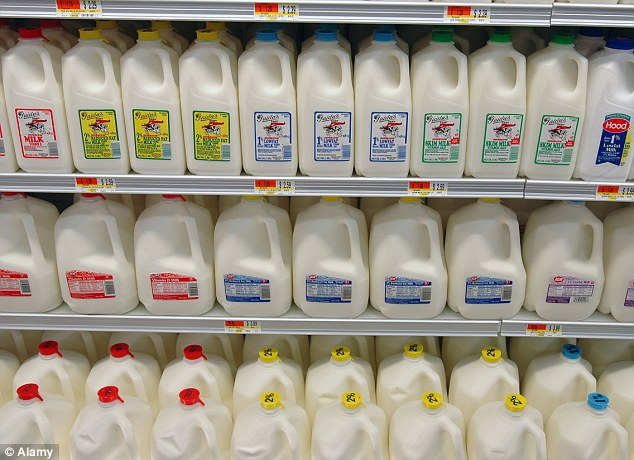milk: (290, 195, 372, 325), (131, 198, 219, 317), (452, 198, 530, 329), (296, 29, 357, 183), (533, 201, 608, 326), (6, 31, 66, 186), (57, 195, 137, 310), (238, 32, 300, 180), (216, 197, 291, 317), (352, 35, 413, 181), (376, 198, 447, 320), (131, 23, 186, 180), (184, 30, 241, 179), (472, 34, 526, 183), (72, 28, 127, 174), (416, 36, 469, 177), (534, 36, 583, 185), (1, 195, 58, 315), (589, 36, 634, 183), (314, 393, 391, 460), (72, 395, 149, 460), (155, 394, 229, 460), (551, 401, 634, 458), (237, 399, 312, 459), (473, 395, 542, 460), (394, 398, 467, 459), (380, 342, 450, 399), (532, 342, 602, 398), (237, 343, 308, 396), (86, 348, 161, 395), (459, 341, 522, 395), (3, 390, 65, 443), (163, 347, 233, 389), (315, 345, 375, 392), (23, 344, 82, 389)
